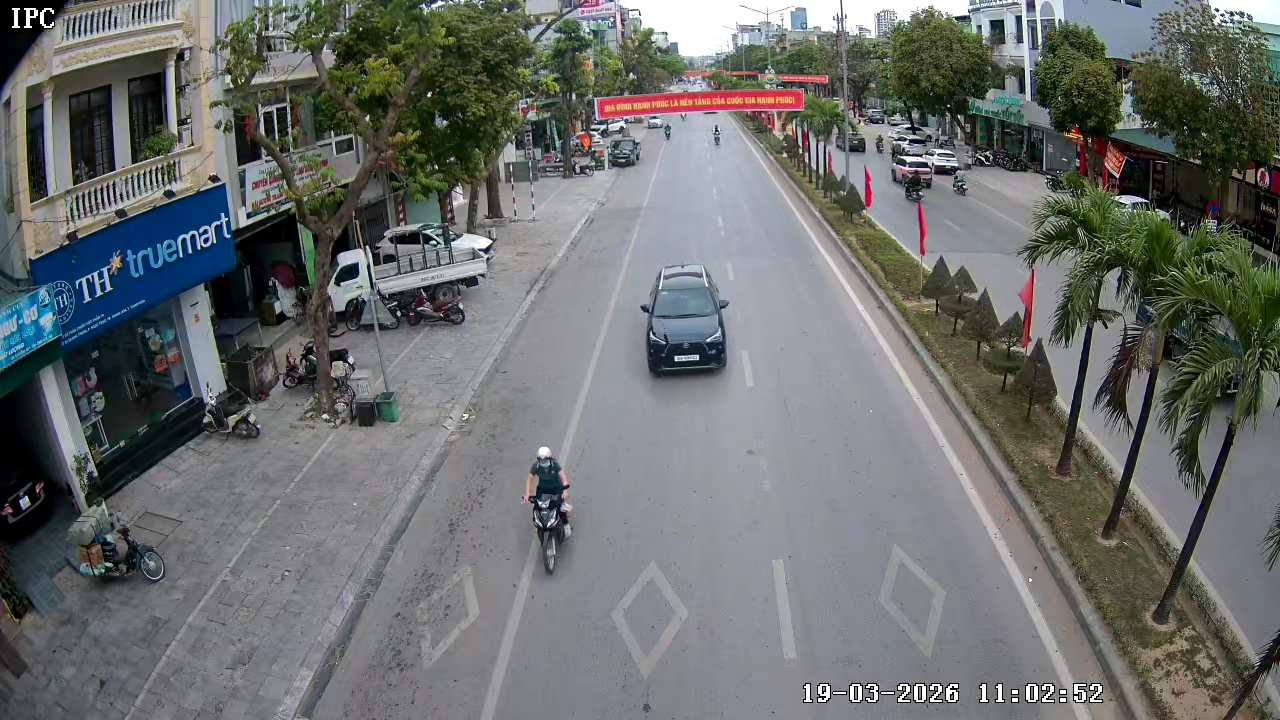car: (639, 263, 731, 376)
motorbike: (70, 500, 167, 587), (521, 444, 577, 573), (711, 123, 723, 146)
truck: (607, 135, 648, 167)
